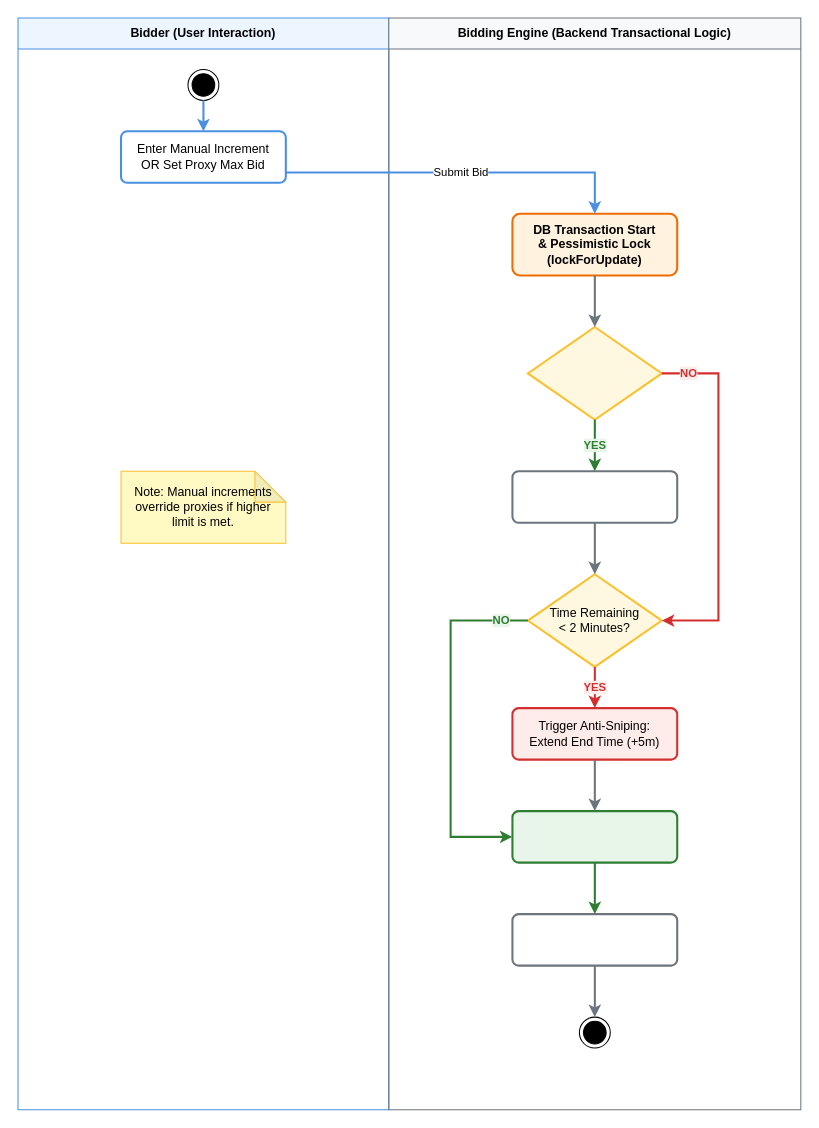
Some shapes in this 819 by 1128 pixel diagram are drawn without their labels. The shapes that lost their labels are listed below. From the top down, each one's centre as x and y in pixels, then its label:
At pixel 594 372: "Other Active Proxy Bids Exist?".
At pixel 594 496: "Compare Max Limits & Apply Min Increment".
At pixel 594 836: "Update Current Price & Commit Transaction".
At pixel 594 939: "Dispatch Outbid Alerts (System Notifications)".
